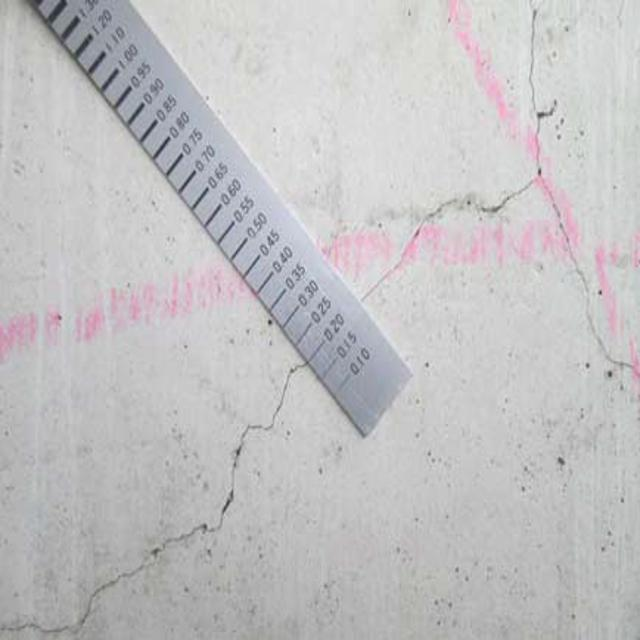crack: (323, 8, 637, 386), (3, 353, 310, 634)
